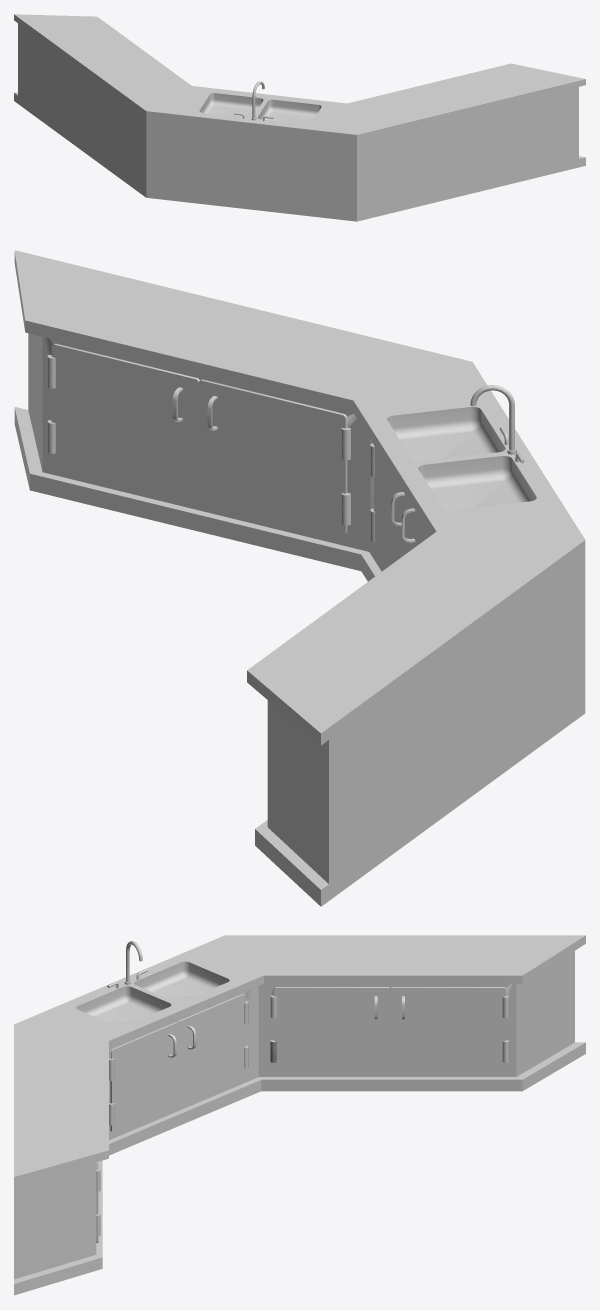
Rendered from Med_Cupb_l.fbx.
The picture shows the model from 3 angles, top to bottom: view 1: azimuth 30°, elevation 25°; view 2: azimuth 150°, elevation 25°; view 3: azimuth 270°, elevation 25°; orthographic projection. The views are drawn at different scales.
Visible parts, largest first — view 1: Model; view 2: Model; view 3: Model.
Part boxes in pixels (left/top/right/bottom): Model: left=14, top=14, right=585, bottom=221; Model: left=14, top=250, right=585, bottom=906; Model: left=14, top=935, right=585, bottom=1295.
Size of the model in its own units: 414 by 131 by 414.
